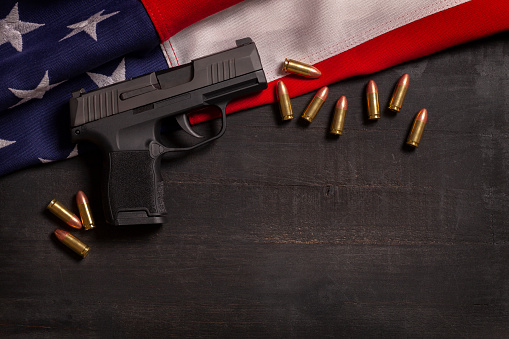gun: (65, 35, 271, 230)
